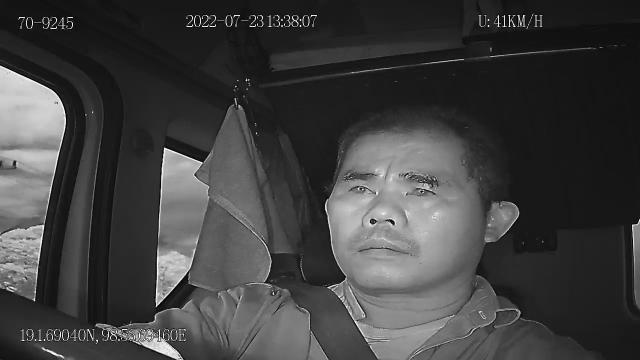SafeDriving: (398, 171, 444, 205), (341, 173, 382, 202)
Seatbelt: (288, 283, 380, 360)
